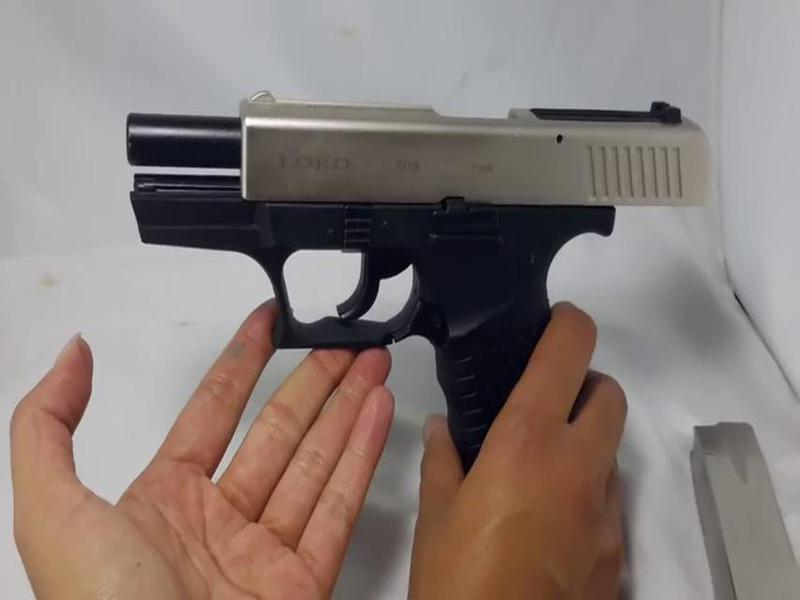Pistola: (96, 79, 742, 558)
